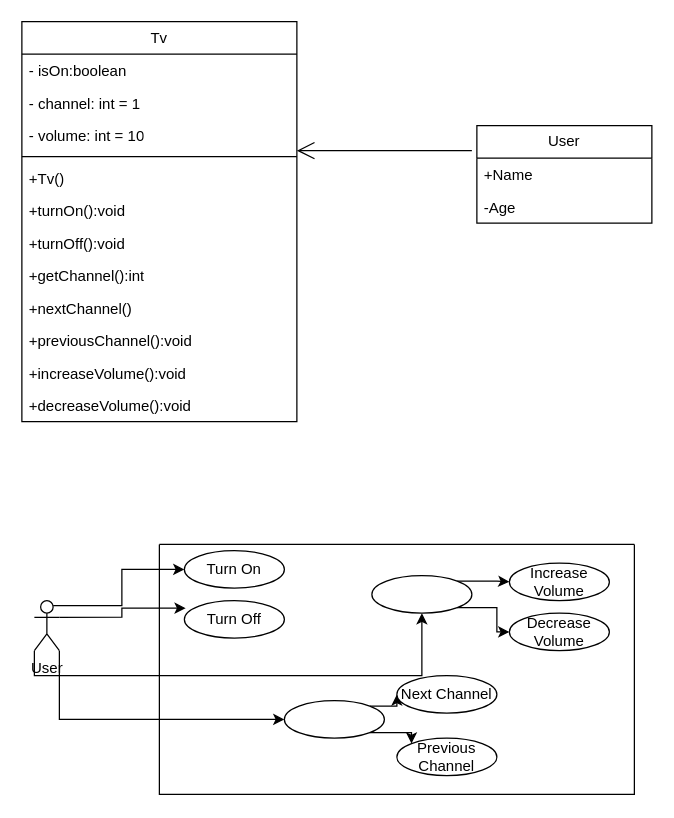
Some shapes in this 674 by 818 pixel diagram are drawn without their labels. The centre of each missing label's shape, as x and y in pixels:
"Adjust Volume" goes at (421,593).
"Change Channel" goes at (333,718).
